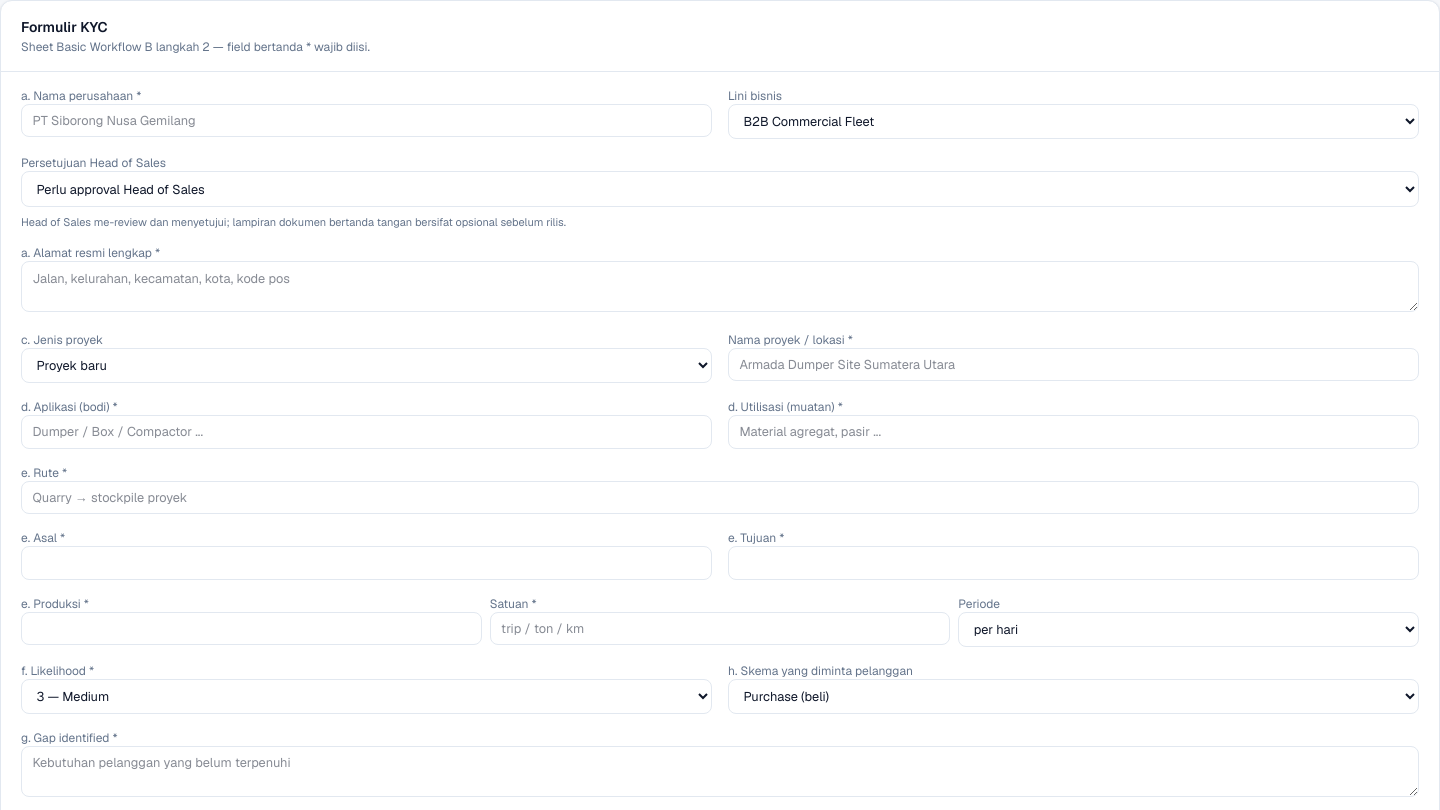
it: QuotationForm: dropdown persetujuan Head of Sales › memilih tanpa approval menjelaskan rilis langsung dan tier margin tetap berlaku
Select "Tanpa approval Head of Sales — langsung rilis" in the dropdown labelled "Persetujuan Head of Sales" at {"x": 720, "y": 189}, box [21,171,1419,207]
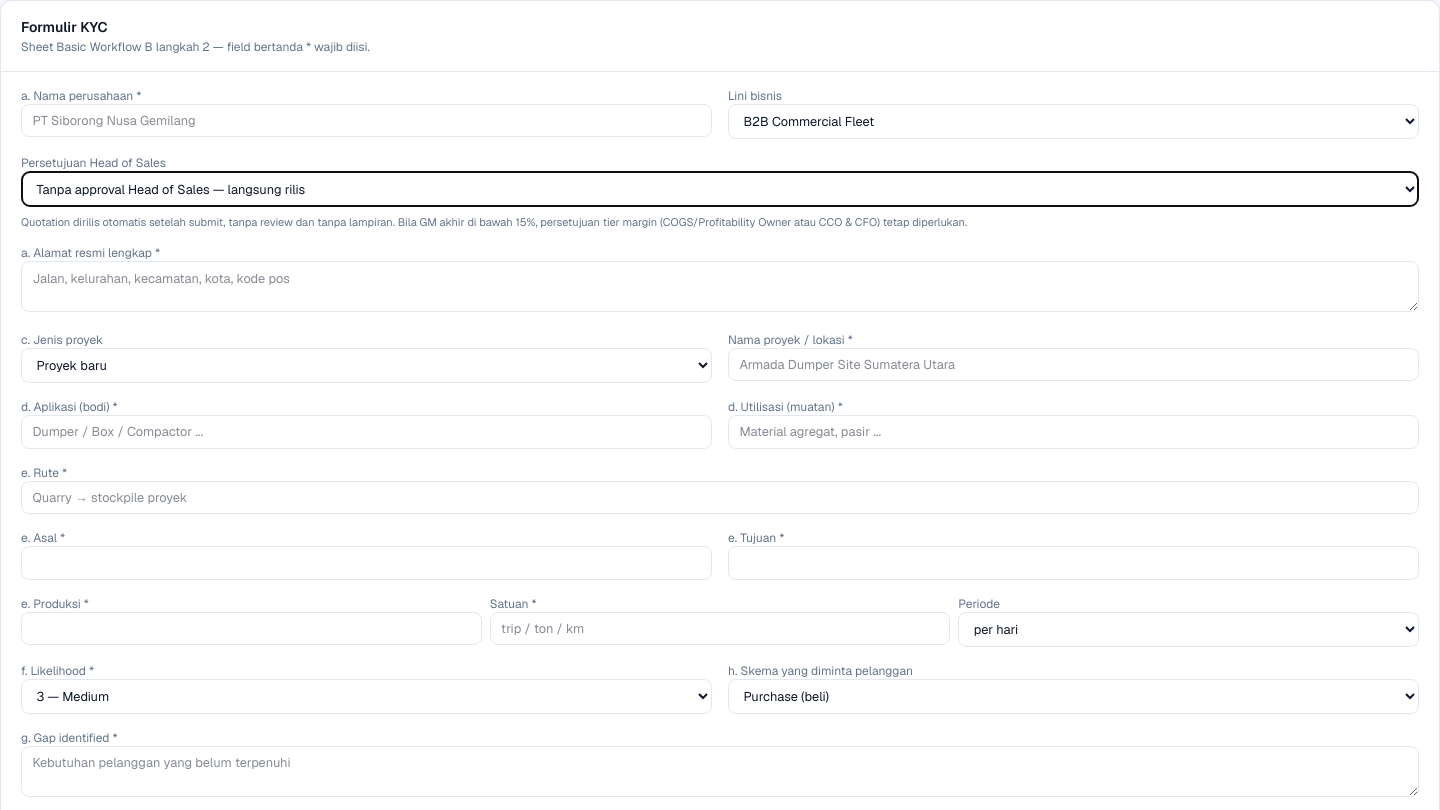
Expected: the text "di bawah 15%" is shown, [21,215,967,229]
